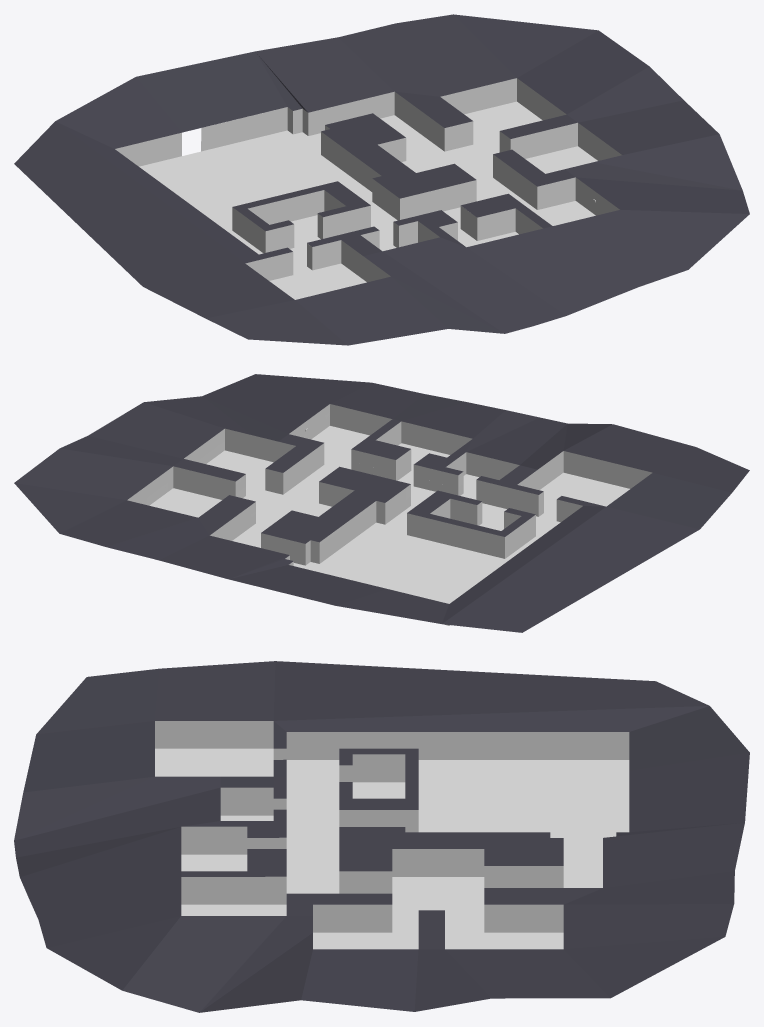
The model's file is Fase_Caverna_Blocagem2.fbx.
3 views of the same model, one above another, from view 1: azimuth 30°, elevation 25°; view 2: azimuth 150°, elevation 25°; view 3: azimuth 270°, elevation 25° (orthographic). The views are drawn at different scales.
Visible parts, largest first — view 1: Plane.002, Plane.004, Plane.001; view 2: Plane.002, Plane.004, Plane.001; view 3: Plane.002, Plane.004, Plane.001.
Boxes of the visible parts, box(x1,y1,x2,y2) form: Plane.002: box(14, 14, 749, 345); Plane.004: box(115, 78, 621, 299); Plane.001: box(233, 181, 370, 231); Plane.002: box(14, 374, 749, 632); Plane.004: box(127, 404, 652, 625); Plane.001: box(407, 490, 535, 536); Plane.002: box(14, 661, 749, 1012); Plane.004: box(155, 721, 629, 949); Plane.001: box(339, 748, 418, 809).
Bounding box in the file's own units: 3122 × 224 × 2792.
